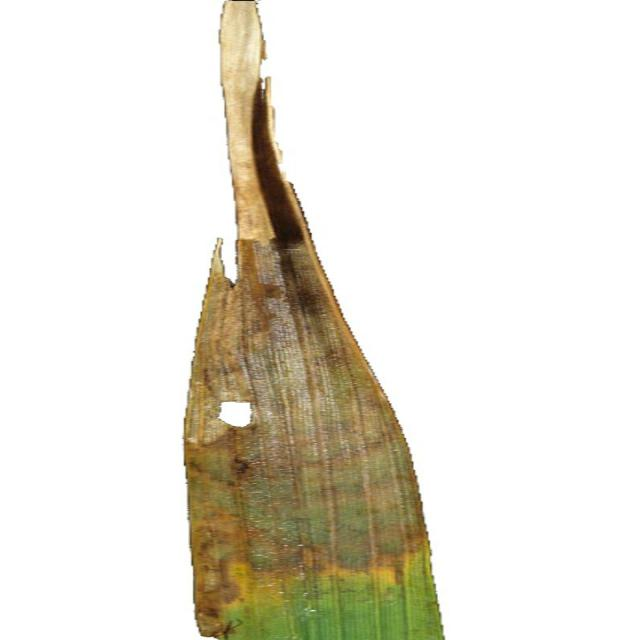Leaf scald: (178, 0, 501, 640)
